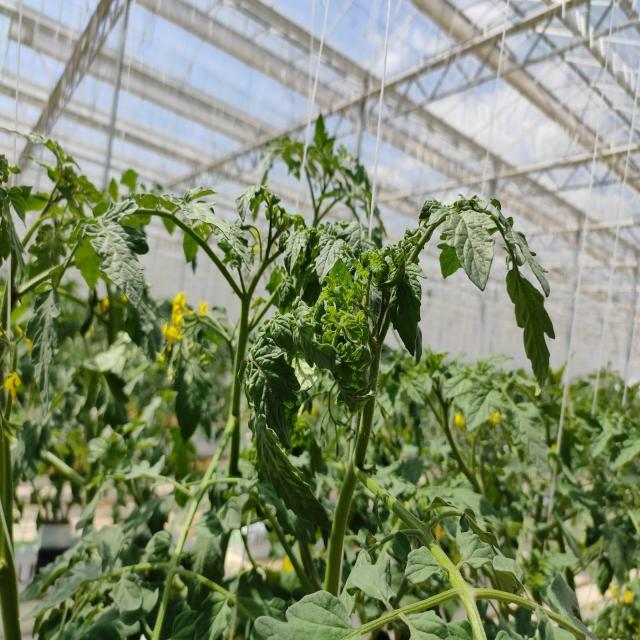T_L_H: (84, 200, 148, 309), (431, 202, 497, 289), (247, 336, 300, 439)
